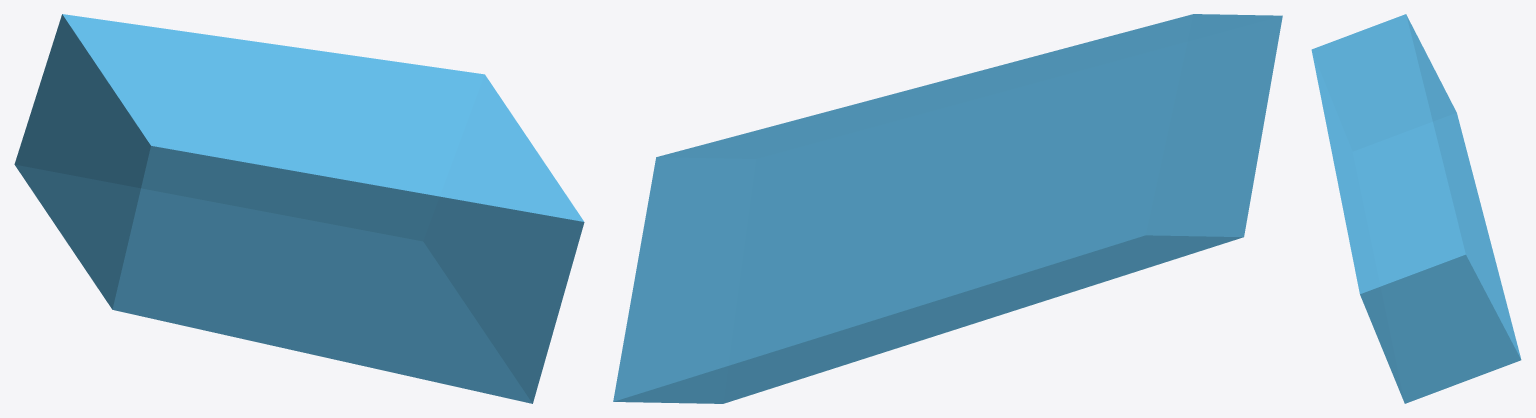
File: Event_421364160_HErechit_17.fbx
3 renders of one model, left to right at view 1: azimuth 30°, elevation 25°; view 2: azimuth 150°, elevation 25°; view 3: azimuth 270°, elevation 25°, orthographic. The views are drawn at different scales.
Visible parts, largest first — view 1: Model; view 2: Model; view 3: Model.
Part boxes in pixels (x1,y1,x2,y2): Model: (14,14,584,403); Model: (613,14,1282,403); Model: (1311,14,1521,403).
Bounding box in the file's own units: 1.25 × 1.26 × 0.8949.
